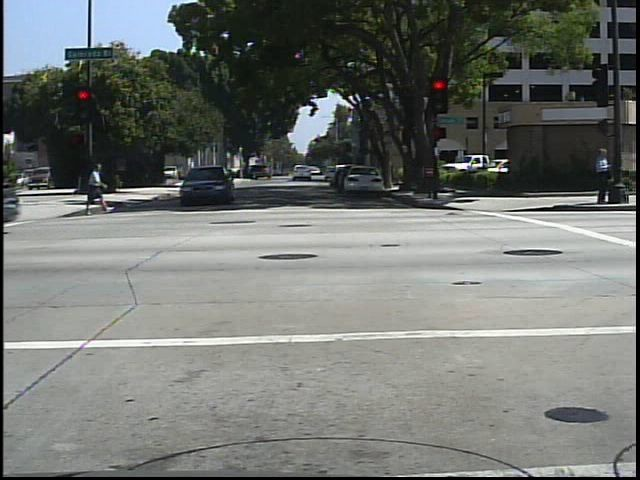person: (590, 142, 619, 208), (81, 158, 112, 218)
